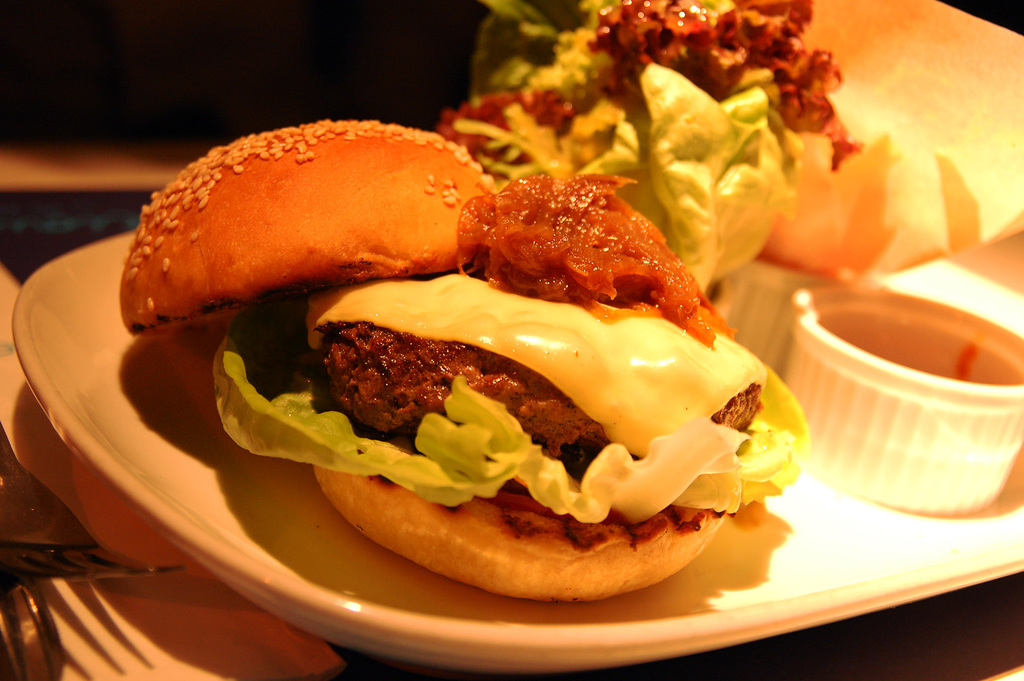Hamburger: (118, 120, 806, 608)
